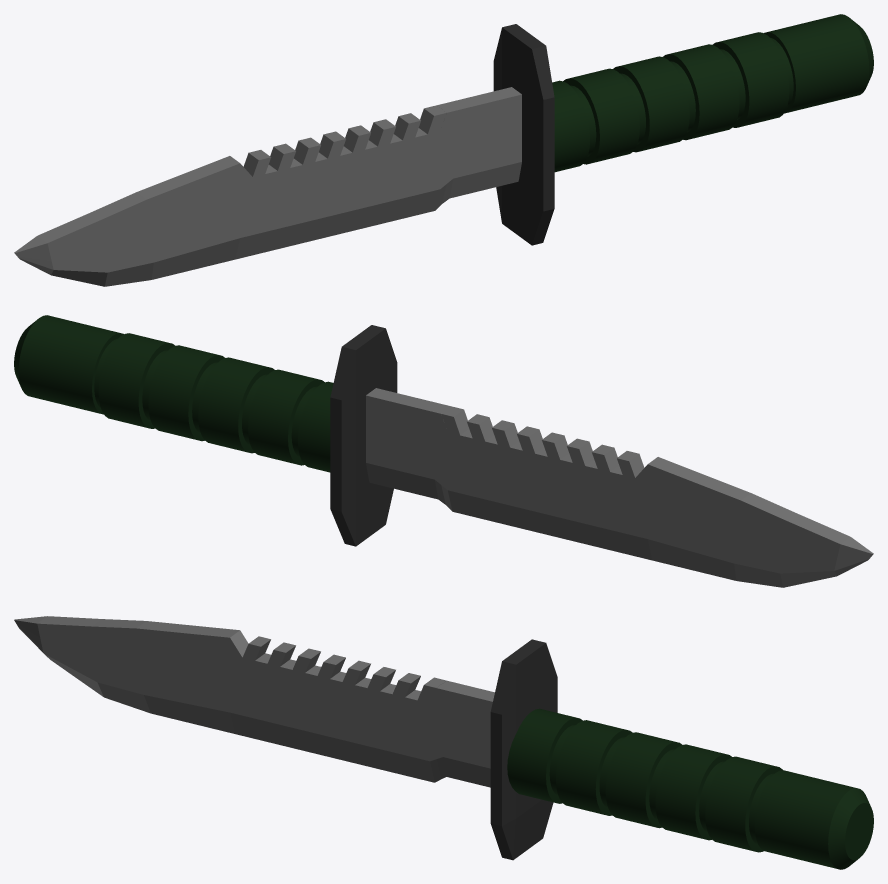
The model's file is Knife.fbx.
3 views of the same model, one above another, from view 1: azimuth 30°, elevation 25°; view 2: azimuth 150°, elevation 25°; view 3: azimuth 330°, elevation 25° (orthographic).
Visible parts, largest first — view 1: Cube.001, Cylinder, Cube, Cylinder.001; view 2: Cube.001, Cylinder, Cube, Cylinder.001; view 3: Cube.001, Cylinder, Cylinder.001, Cube.
Part boxes in pixels (left/top/right/bottom): Cube.001: left=14, top=87, right=521, bottom=286; Cylinder: left=552, top=32, right=793, bottom=172; Cube: left=493, top=24, right=554, bottom=245; Cylinder.001: left=764, top=14, right=873, bottom=113; Cube.001: left=366, top=388, right=873, bottom=587; Cylinder: left=94, top=333, right=333, bottom=472; Cube: left=330, top=325, right=397, bottom=546; Cylinder.001: left=14, top=315, right=123, bottom=414; Cube.001: left=14, top=616, right=494, bottom=787; Cylinder: left=507, top=708, right=782, bottom=852; Cylinder.001: left=754, top=770, right=873, bottom=869; Cube: left=490, top=639, right=557, bottom=860.
Bounding box in the file's own units: 470 × 104 × 50.8.
